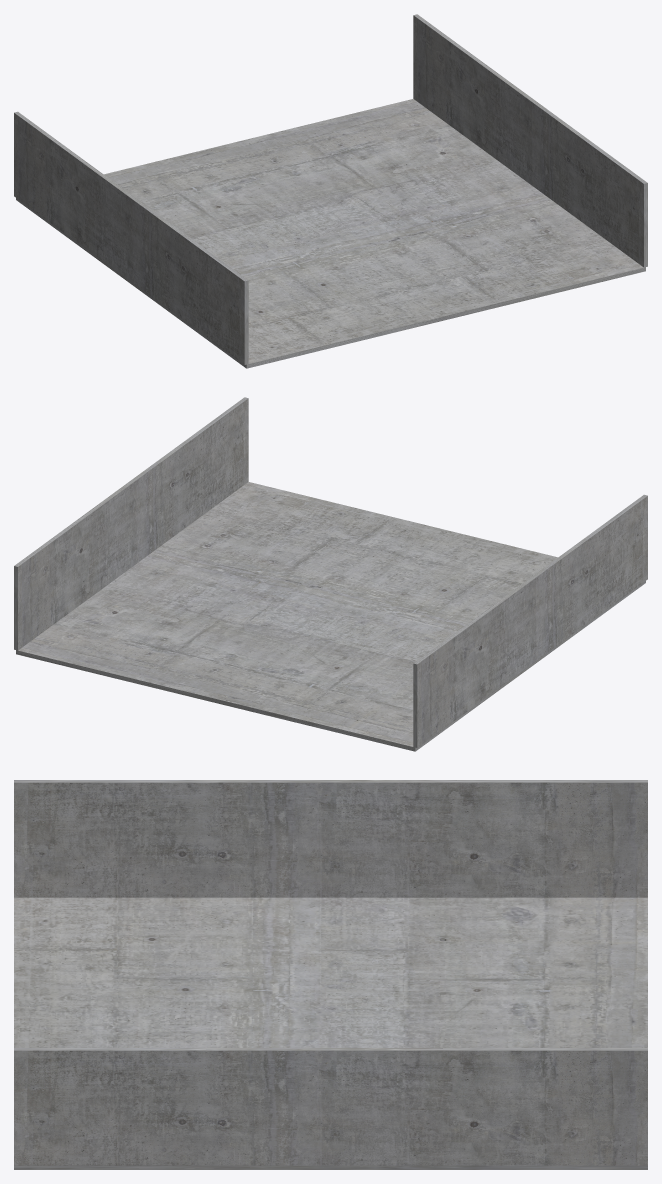
File: chill_floor.glb
The picture shows the model from 3 angles, top to bottom: view 1: azimuth 30°, elevation 25°; view 2: azimuth 150°, elevation 25°; view 3: azimuth 270°, elevation 25°; orthographic projection. The views are drawn at different scales.
Visible parts, largest first — view 1: Cube.001, Cube.002, Cube; view 2: Cube.001, Cube.002, Cube; view 3: Cube.001, Cube, Cube.002.
Part boxes in pixels (x1=…): Cube.001: x1=16, y1=99, x2=645, y2=368; Cube.002: x1=413, y1=14, x2=647, y2=267; Cube: x1=14, y1=111, x2=248, y2=364; Cube.001: x1=16, y1=482, x2=645, y2=751; Cube.002: x1=14, y1=397, x2=248, y2=650; Cube: x1=413, y1=494, x2=647, y2=747; Cube.001: x1=14, y1=897, x2=647, y2=1169; Cube: x1=14, y1=780, x2=647, y2=897; Cube.002: x1=14, y1=1048, x2=647, y2=1165.
Bounding box in the file's own units: 10.1 × 2.1 × 10.
3 materials, 3 textured.
